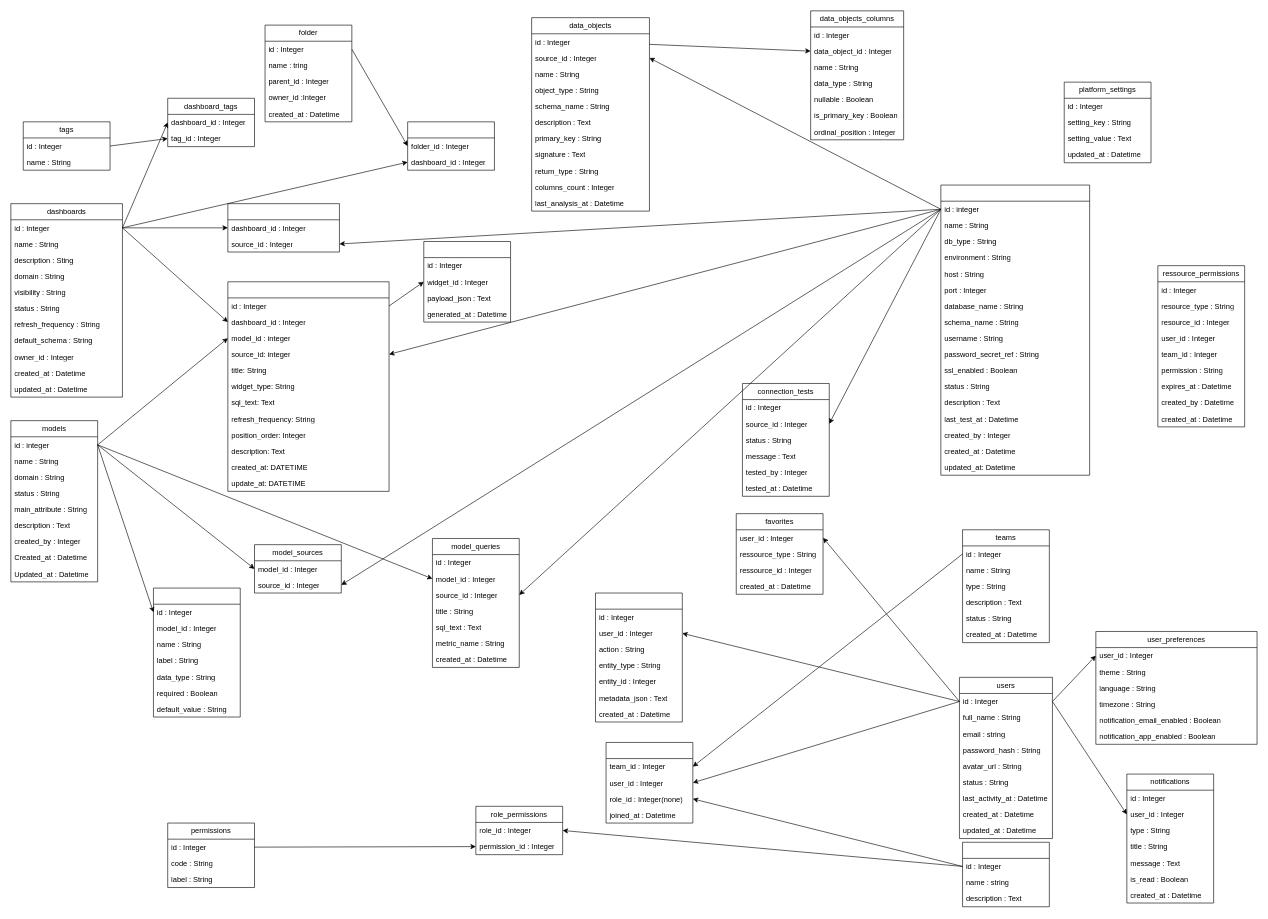
Some shapes in this 1268 by 919 pixel diagram are drawn without their labels. The shapes that lost their labels are listed below. From the top down, each one's box as (x1, y1, x2, y2) in pixels, then its label:
(407, 121, 494, 170): folder_dashboards
(227, 203, 339, 252): dashboard_sources
(423, 241, 511, 322): widget_results_cache
(940, 184, 1090, 475): sources
(227, 281, 389, 491): Widgets
(153, 587, 240, 717): model_parameters
(595, 592, 682, 722): activity_logs
(605, 742, 693, 823): teams_members
(962, 842, 1049, 907): roles
